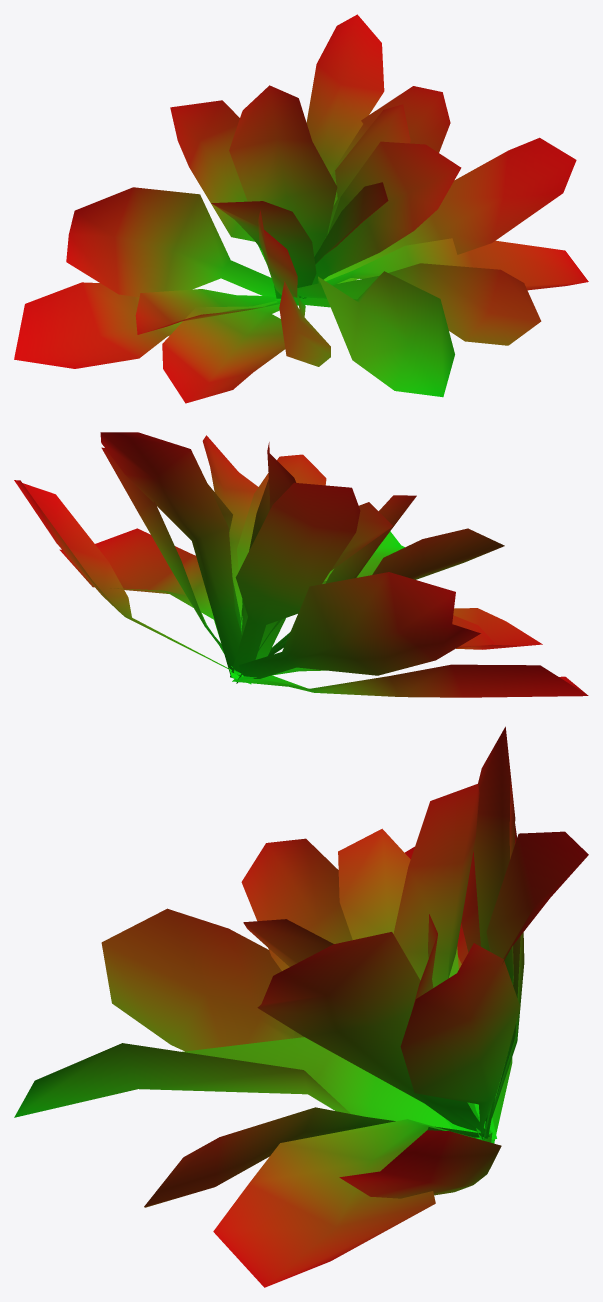
File: Var21_LOD0.fbx
3 renders of one model, top to bottom at view 1: azimuth 30°, elevation 25°; view 2: azimuth 150°, elevation 25°; view 3: azimuth 270°, elevation 25°, orthographic. The views are drawn at different scales.
Visible parts, largest first — view 1: _afd2_Var21_LOD0; view 2: _afd2_Var21_LOD0; view 3: _afd2_Var21_LOD0.
Boxes of the visible parts, bbox=[...] form: _afd2_Var21_LOD0: bbox=[14, 14, 588, 403]; _afd2_Var21_LOD0: bbox=[14, 432, 588, 697]; _afd2_Var21_LOD0: bbox=[14, 726, 588, 1287].
Size of the model in its own units: 24 by 10.05 by 13.97.
